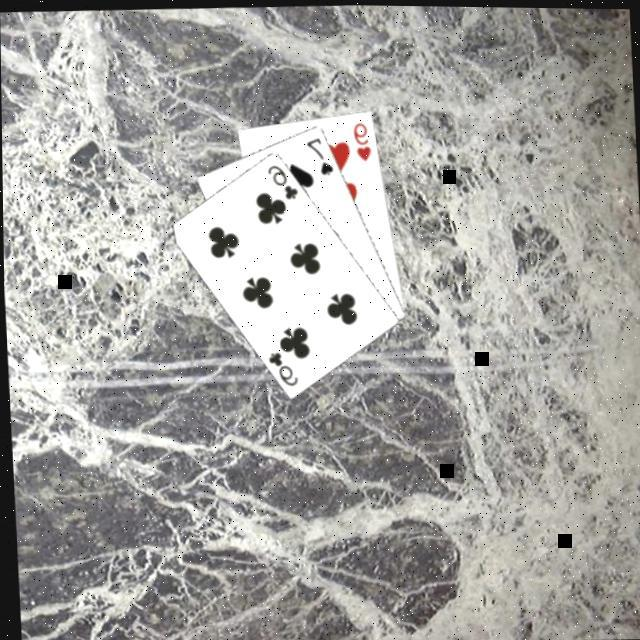6C: (264, 158, 301, 199), (264, 345, 300, 386)
7S: (302, 130, 337, 175)
9H: (350, 116, 375, 161)
